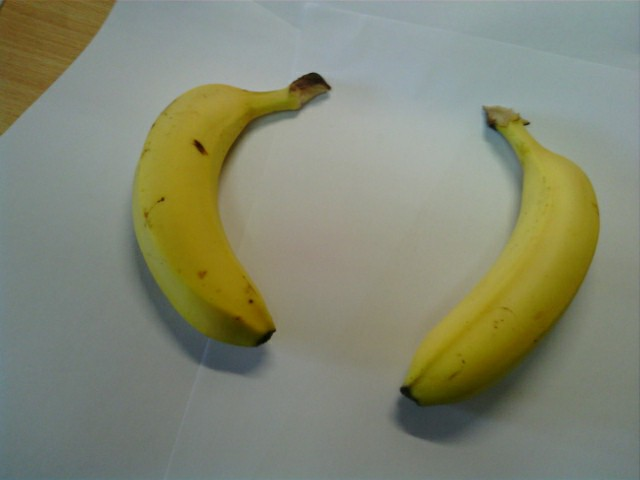fresh_banana: (399, 97, 601, 414)
normal_banana: (130, 81, 278, 346)
